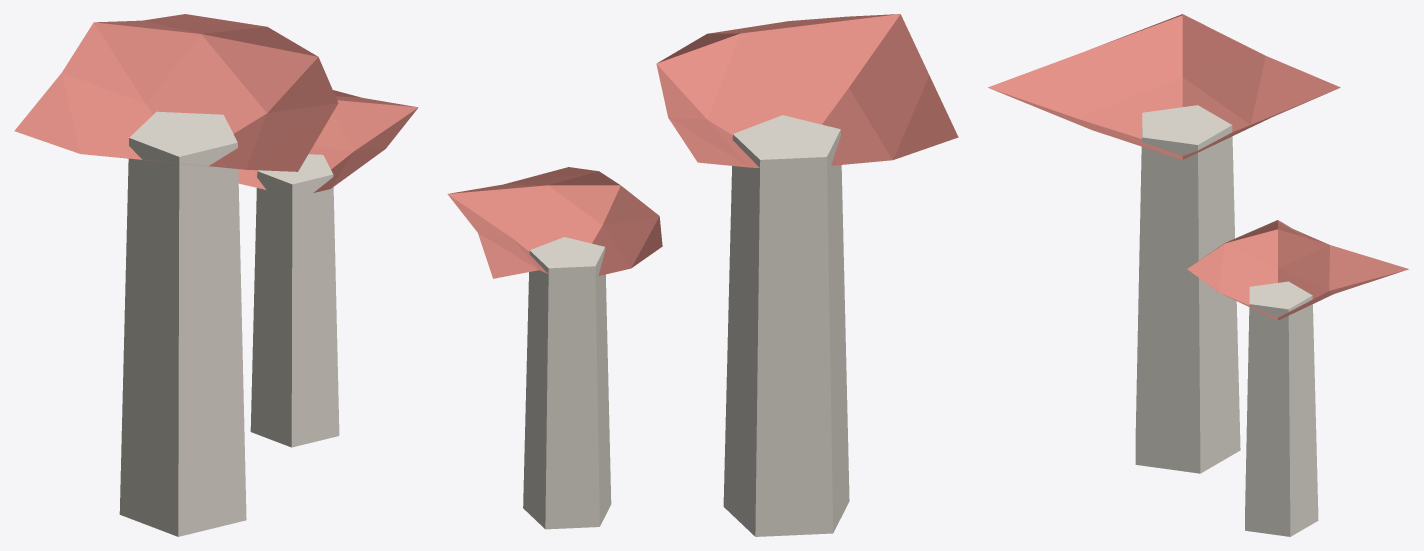
File: mushroom_v32.glb
3 renders of one model, left to right at view 1: azimuth 30°, elevation 25°; view 2: azimuth 150°, elevation 25°; view 3: azimuth 270°, elevation 25°, orthographic. The views are drawn at different scales.
Parts seen in each view (by area): view 1: lod0; view 2: lod0; view 3: lod0.
Part boxes in pixels (x1,y1,x2,y2): lod0: (14, 14, 418, 536); lod0: (447, 14, 958, 536); lod0: (988, 14, 1408, 536).
Size of what is drawn, in the model's own units: 0.3326 by 0.3421 by 0.3057.
